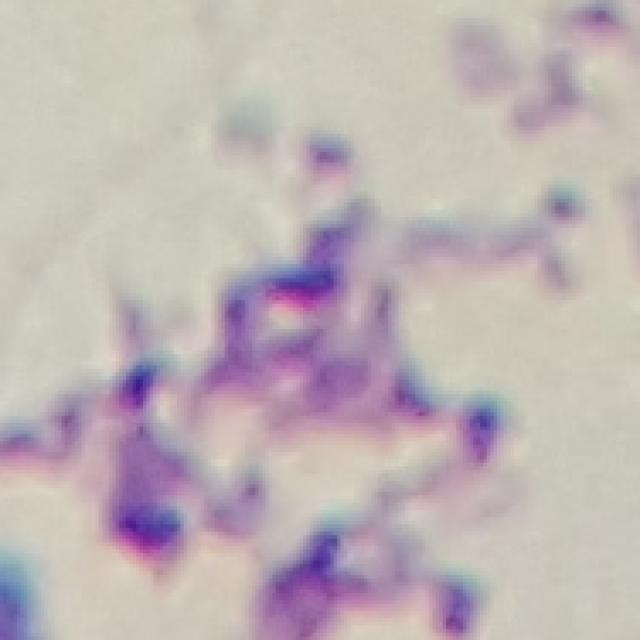non-sperm: (119, 201, 507, 567)
